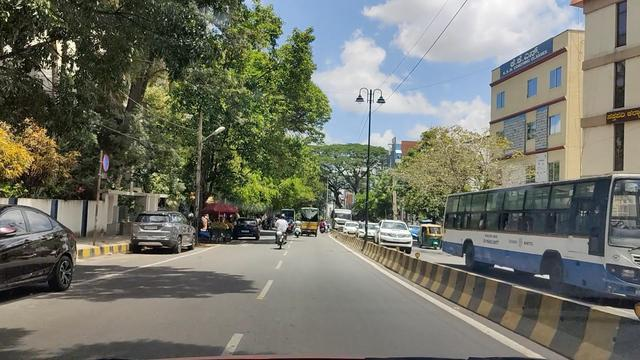LMV: (135, 211, 179, 260), (273, 212, 289, 249)
